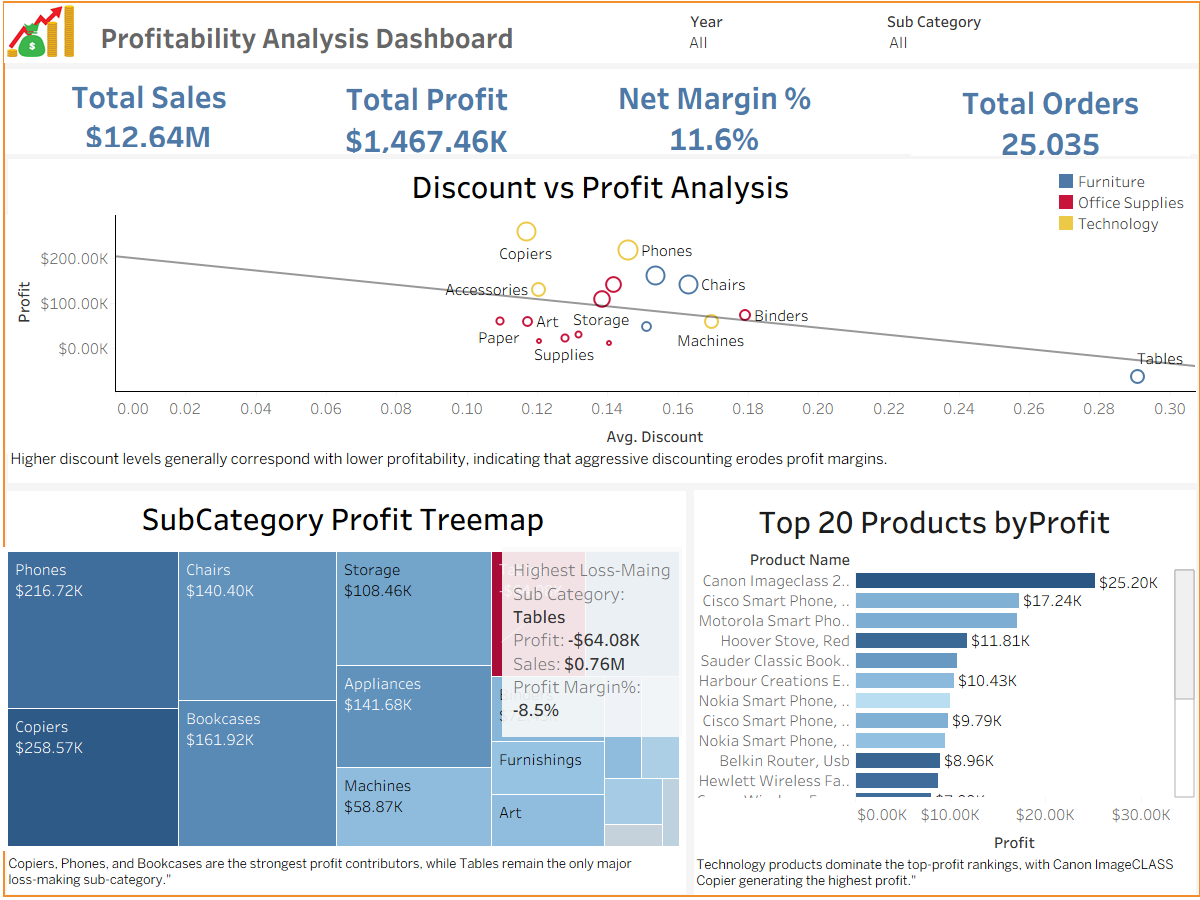

Layout of this report page (visuals, bound fields, positions):
{"tool":"tableau","page":{"name":"protability deep dive","canvas":[1200,900],"ordinal":2},"visuals":[{"type":"image","param":"C:/Users/PC/Pictures/download.jpg","box":[7,5,107,52]},{"type":"filter","title":"year","param":"[federated.0wt0wbq0h1f5od131h4sz0xtgfsv].[none:Order_Year:ok]","box":[687,10,160,46]},{"type":"filter","title":"SubcategoryProfitMap","param":"[federated.0wt0wbq0h1f5od131h4sz0xtgfsv].[none:Sub_Category:nk]","box":[887,10,187,51]},{"type":"text","box":[97,12,430,50]},{"type":"worksheet","title":"year","mark":"Automatic","box":[665,19,251,14]},{"type":"worksheet","title":"TotalSales","mark":"Automatic","box":[10,69,278,78]},{"type":"worksheet","title":"Net Margin %","mark":"Automatic","box":[590,70,249,80]},{"type":"worksheet","title":"KPIProfit","mark":"Automatic","box":[292,71,270,82]},{"type":"worksheet","title":"KPITotalOrders","mark":"Automatic","box":[911,75,279,80]},{"type":"worksheet","title":"DiscountVsProfit","mark":"Automatic","rows":["Profit"],"cols":["Discount"],"box":[6,159,1189,295]},{"type":"legend","title":"DiscountVsProfit","param":"[federated.0wt0wbq0h1f5od131h4sz0xtgfsv].[none:Category:nk]","box":[1056,171,140,85]},{"type":"text","box":[7,433,1189,51]},{"type":"worksheet","title":"SubcategoryProfitMap","mark":"Automatic","box":[3,491,680,360]},{"type":"worksheet","title":"Top20ProductsbyProfit","mark":"Automatic","rows":["Product_Name"],"cols":["Profit"],"box":[695,494,500,366]},{"type":"text","box":[5,846,679,51]},{"type":"text","box":[693,851,506,43]}]}

Visuals, with their boxes in screenshot pixels (x1, y1, x2, y2), scaled from the page's 1200x900 canvas onto the 1200x900 screenshot:
image: (7, 5, 114, 57)
"year" filter: (687, 10, 847, 56)
"SubcategoryProfitMap" filter: (887, 10, 1074, 61)
text: (97, 12, 527, 62)
"year" worksheet: (665, 19, 916, 33)
"TotalSales" worksheet: (10, 69, 288, 147)
"Net Margin %" worksheet: (590, 70, 839, 150)
"KPIProfit" worksheet: (292, 71, 562, 153)
"KPITotalOrders" worksheet: (911, 75, 1190, 155)
"DiscountVsProfit" worksheet: (6, 159, 1195, 454)
"DiscountVsProfit" legend: (1056, 171, 1196, 256)
text: (7, 433, 1196, 484)
"SubcategoryProfitMap" worksheet: (3, 491, 683, 851)
"Top20ProductsbyProfit" worksheet: (695, 494, 1195, 860)
text: (5, 846, 684, 897)
text: (693, 851, 1199, 894)
